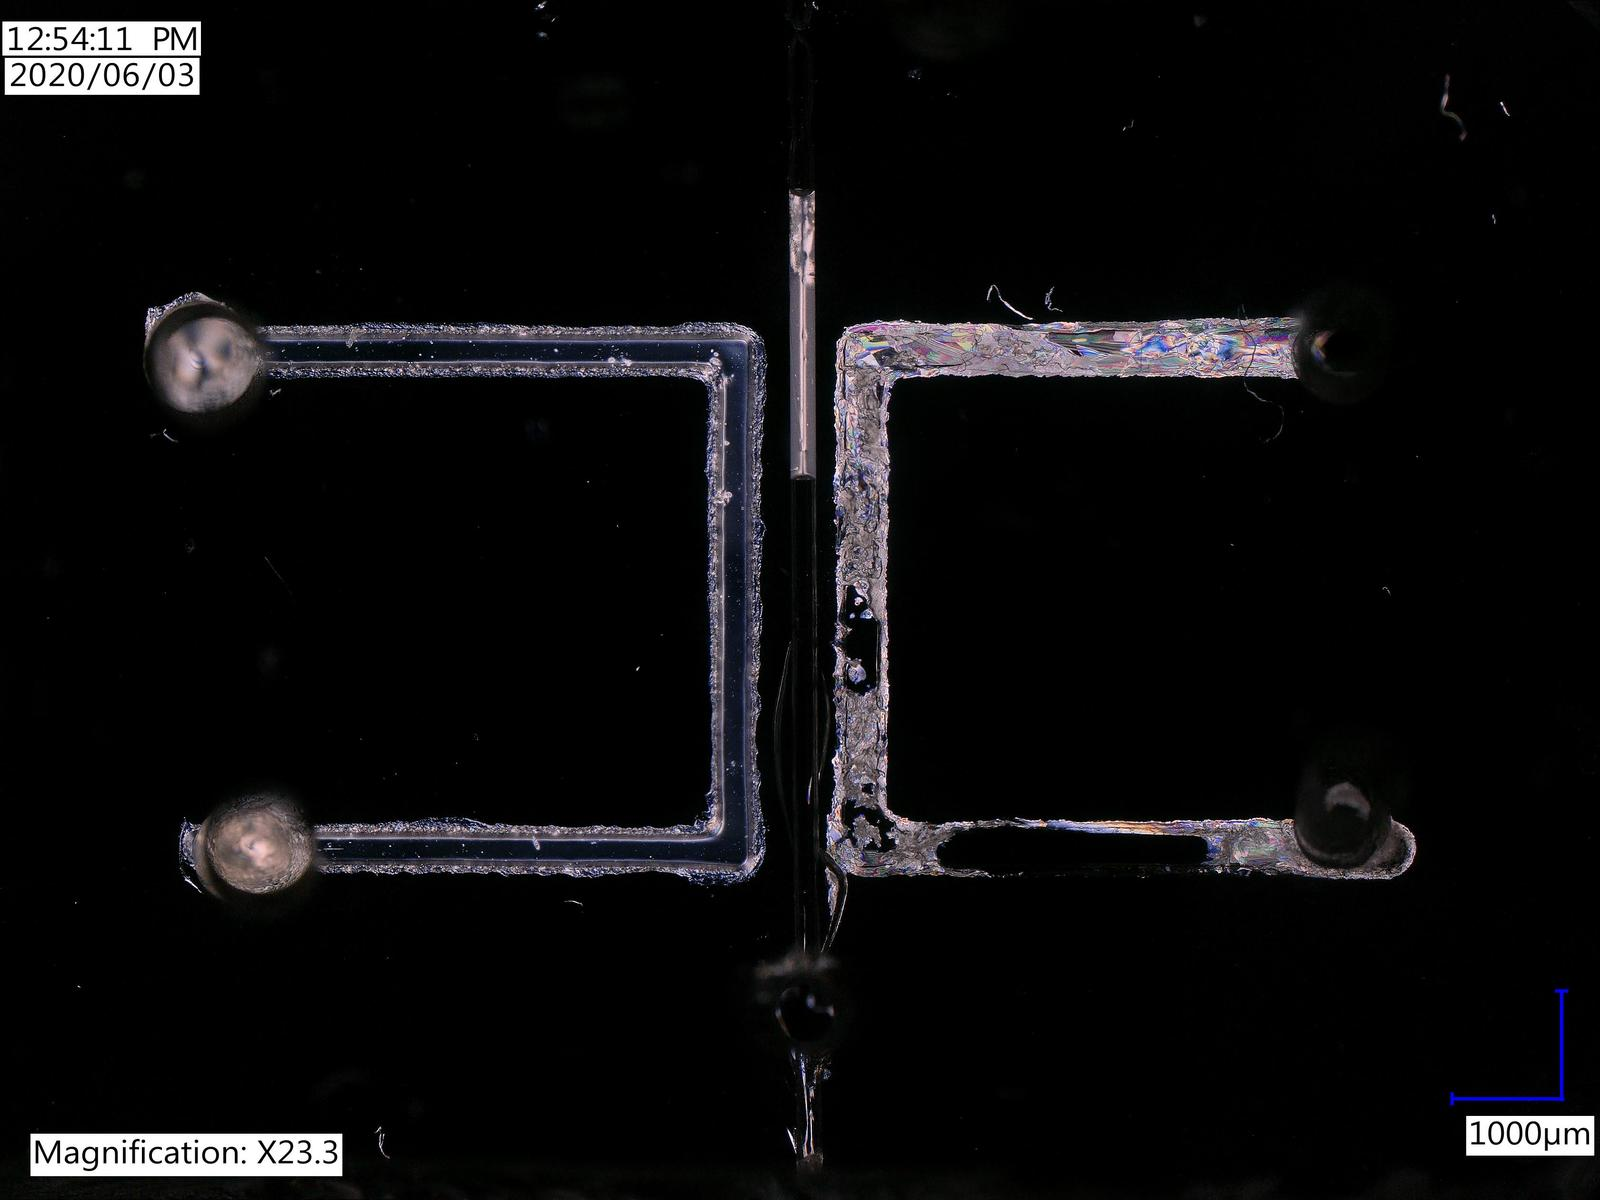sediment: (837, 485, 884, 616), (835, 687, 884, 805), (835, 363, 887, 458), (888, 822, 944, 874), (1198, 828, 1267, 868), (848, 814, 879, 847)
